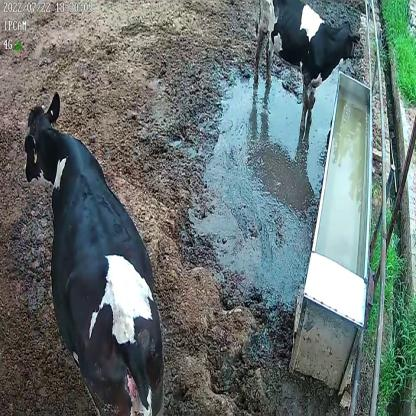cow: (22, 92, 164, 415), (253, 0, 362, 143)
